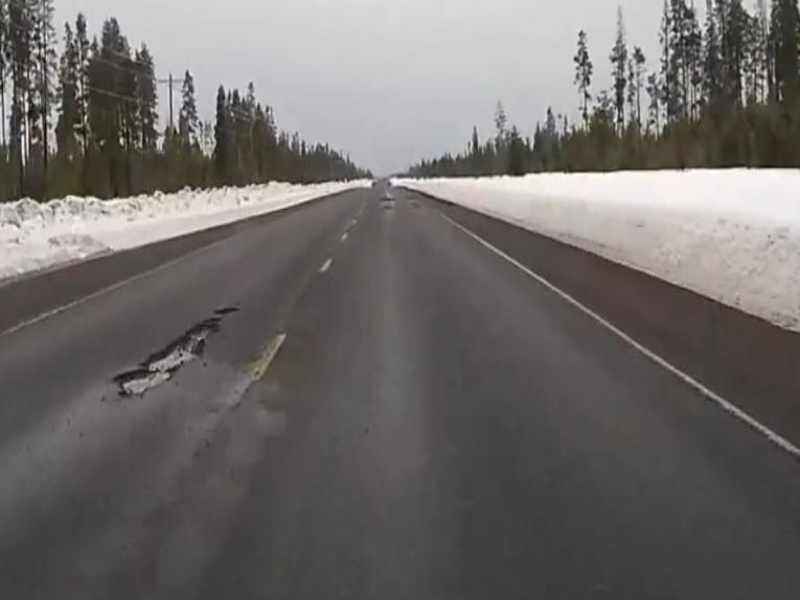pothole: (116, 317, 226, 400)
